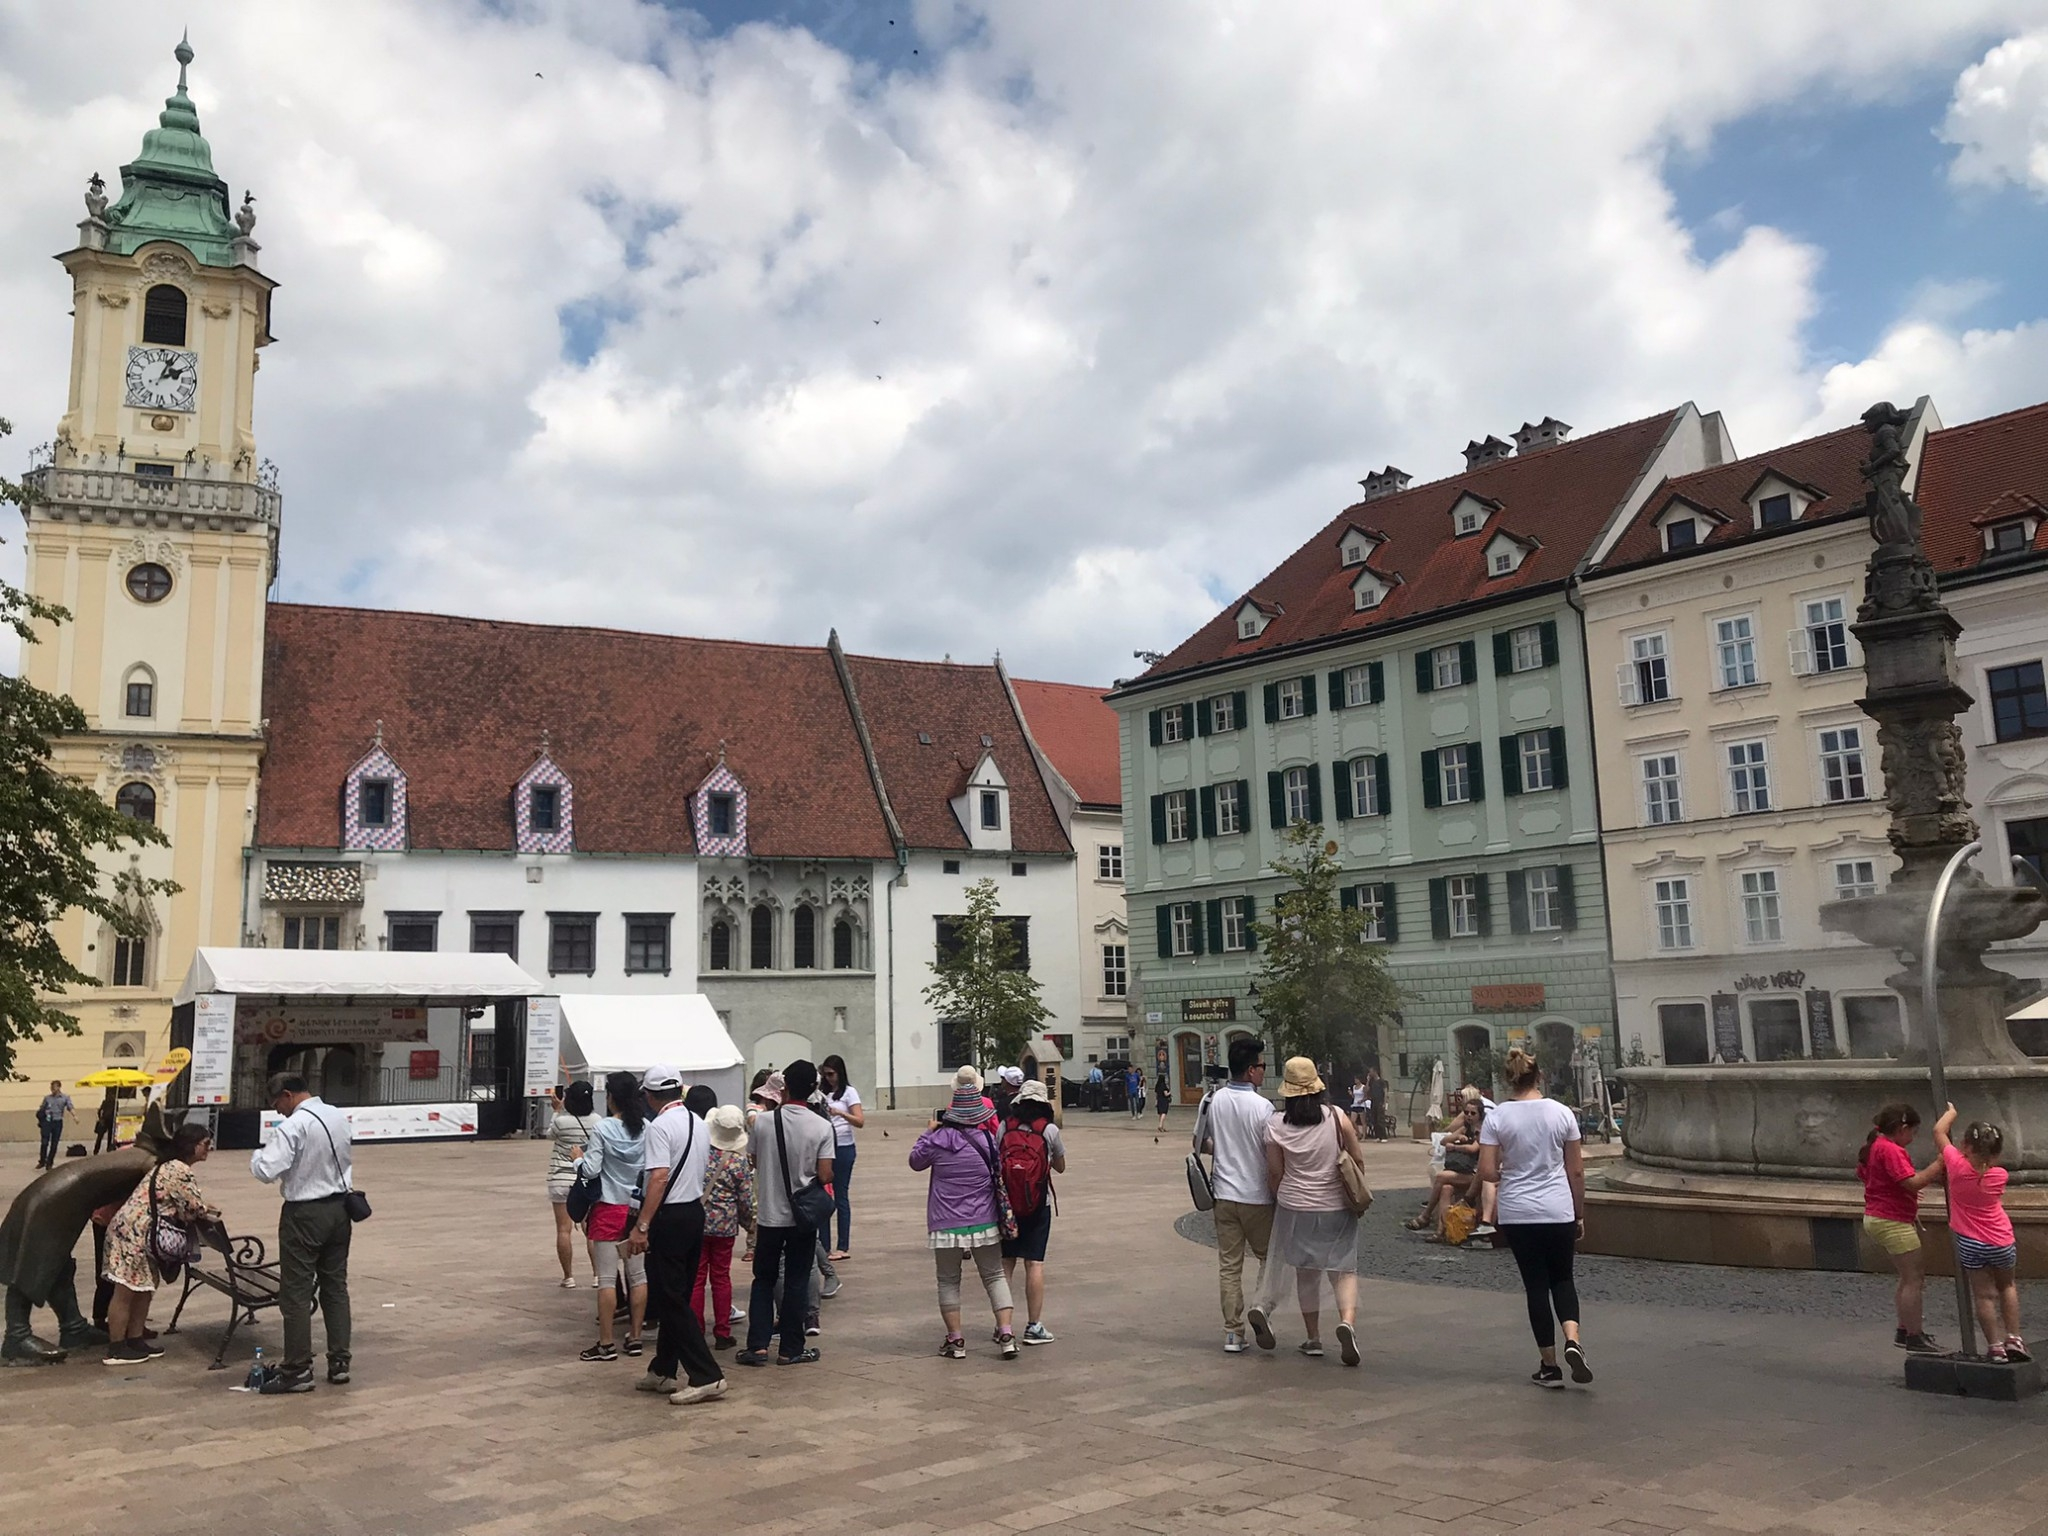people: (254, 1058, 375, 1413), (1502, 1052, 1619, 1405), (1278, 1058, 1372, 1387), (643, 1058, 728, 1416), (928, 1096, 1031, 1360), (1860, 1102, 1954, 1369), (1202, 1034, 1275, 1369), (113, 1119, 207, 1360), (1007, 1069, 1072, 1378), (1952, 1128, 2034, 1355), (778, 1049, 831, 1378), (590, 1084, 654, 1352), (549, 1078, 613, 1293), (722, 1102, 769, 1346), (822, 1043, 866, 1258), (1446, 1087, 1493, 1231), (34, 1078, 72, 1160)
